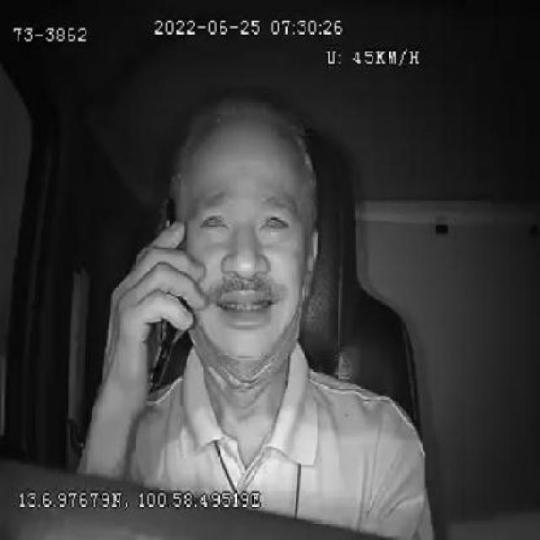phone: (144, 197, 186, 396)
